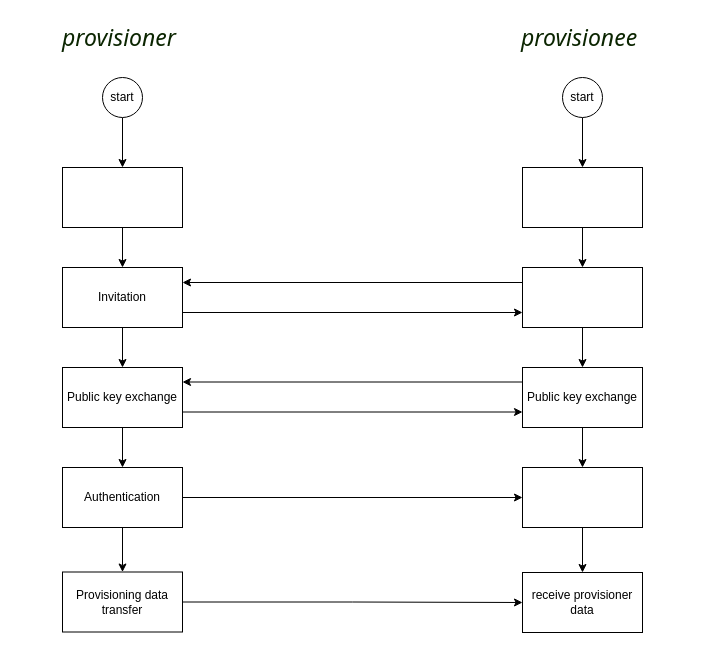
This 704x650 diagram has some shape labels left out. The centre of each missing label's shape, as x and y in pixels:
"Authentication data" goes at pixel 582 497.
"Beacon" goes at pixel 582 297.
"configure node" goes at pixel 582 197.
"configure self node" goes at pixel 122 197.
